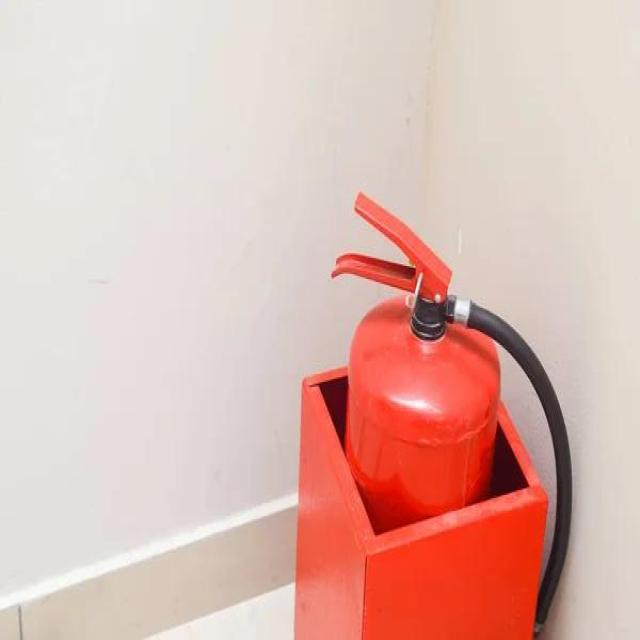fire_extinguisher: (326, 184, 574, 638)
